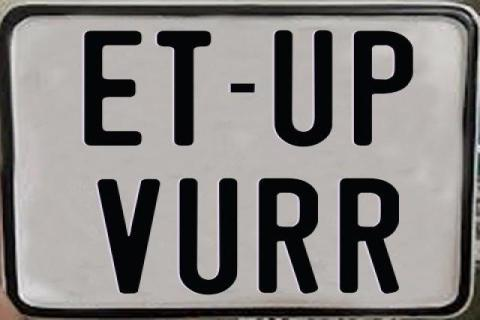E: (84, 29, 146, 145)
P: (354, 28, 415, 146)
R: (339, 176, 404, 294), (256, 178, 317, 294)
T: (154, 30, 209, 146)
U: (177, 176, 240, 295), (272, 31, 334, 147)
V: (96, 178, 161, 298)
